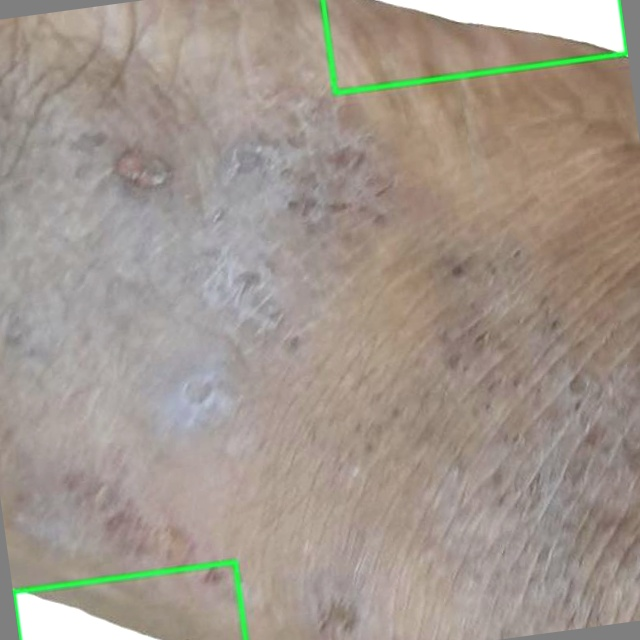Contact Dermatitis: (322, 0, 626, 93)
